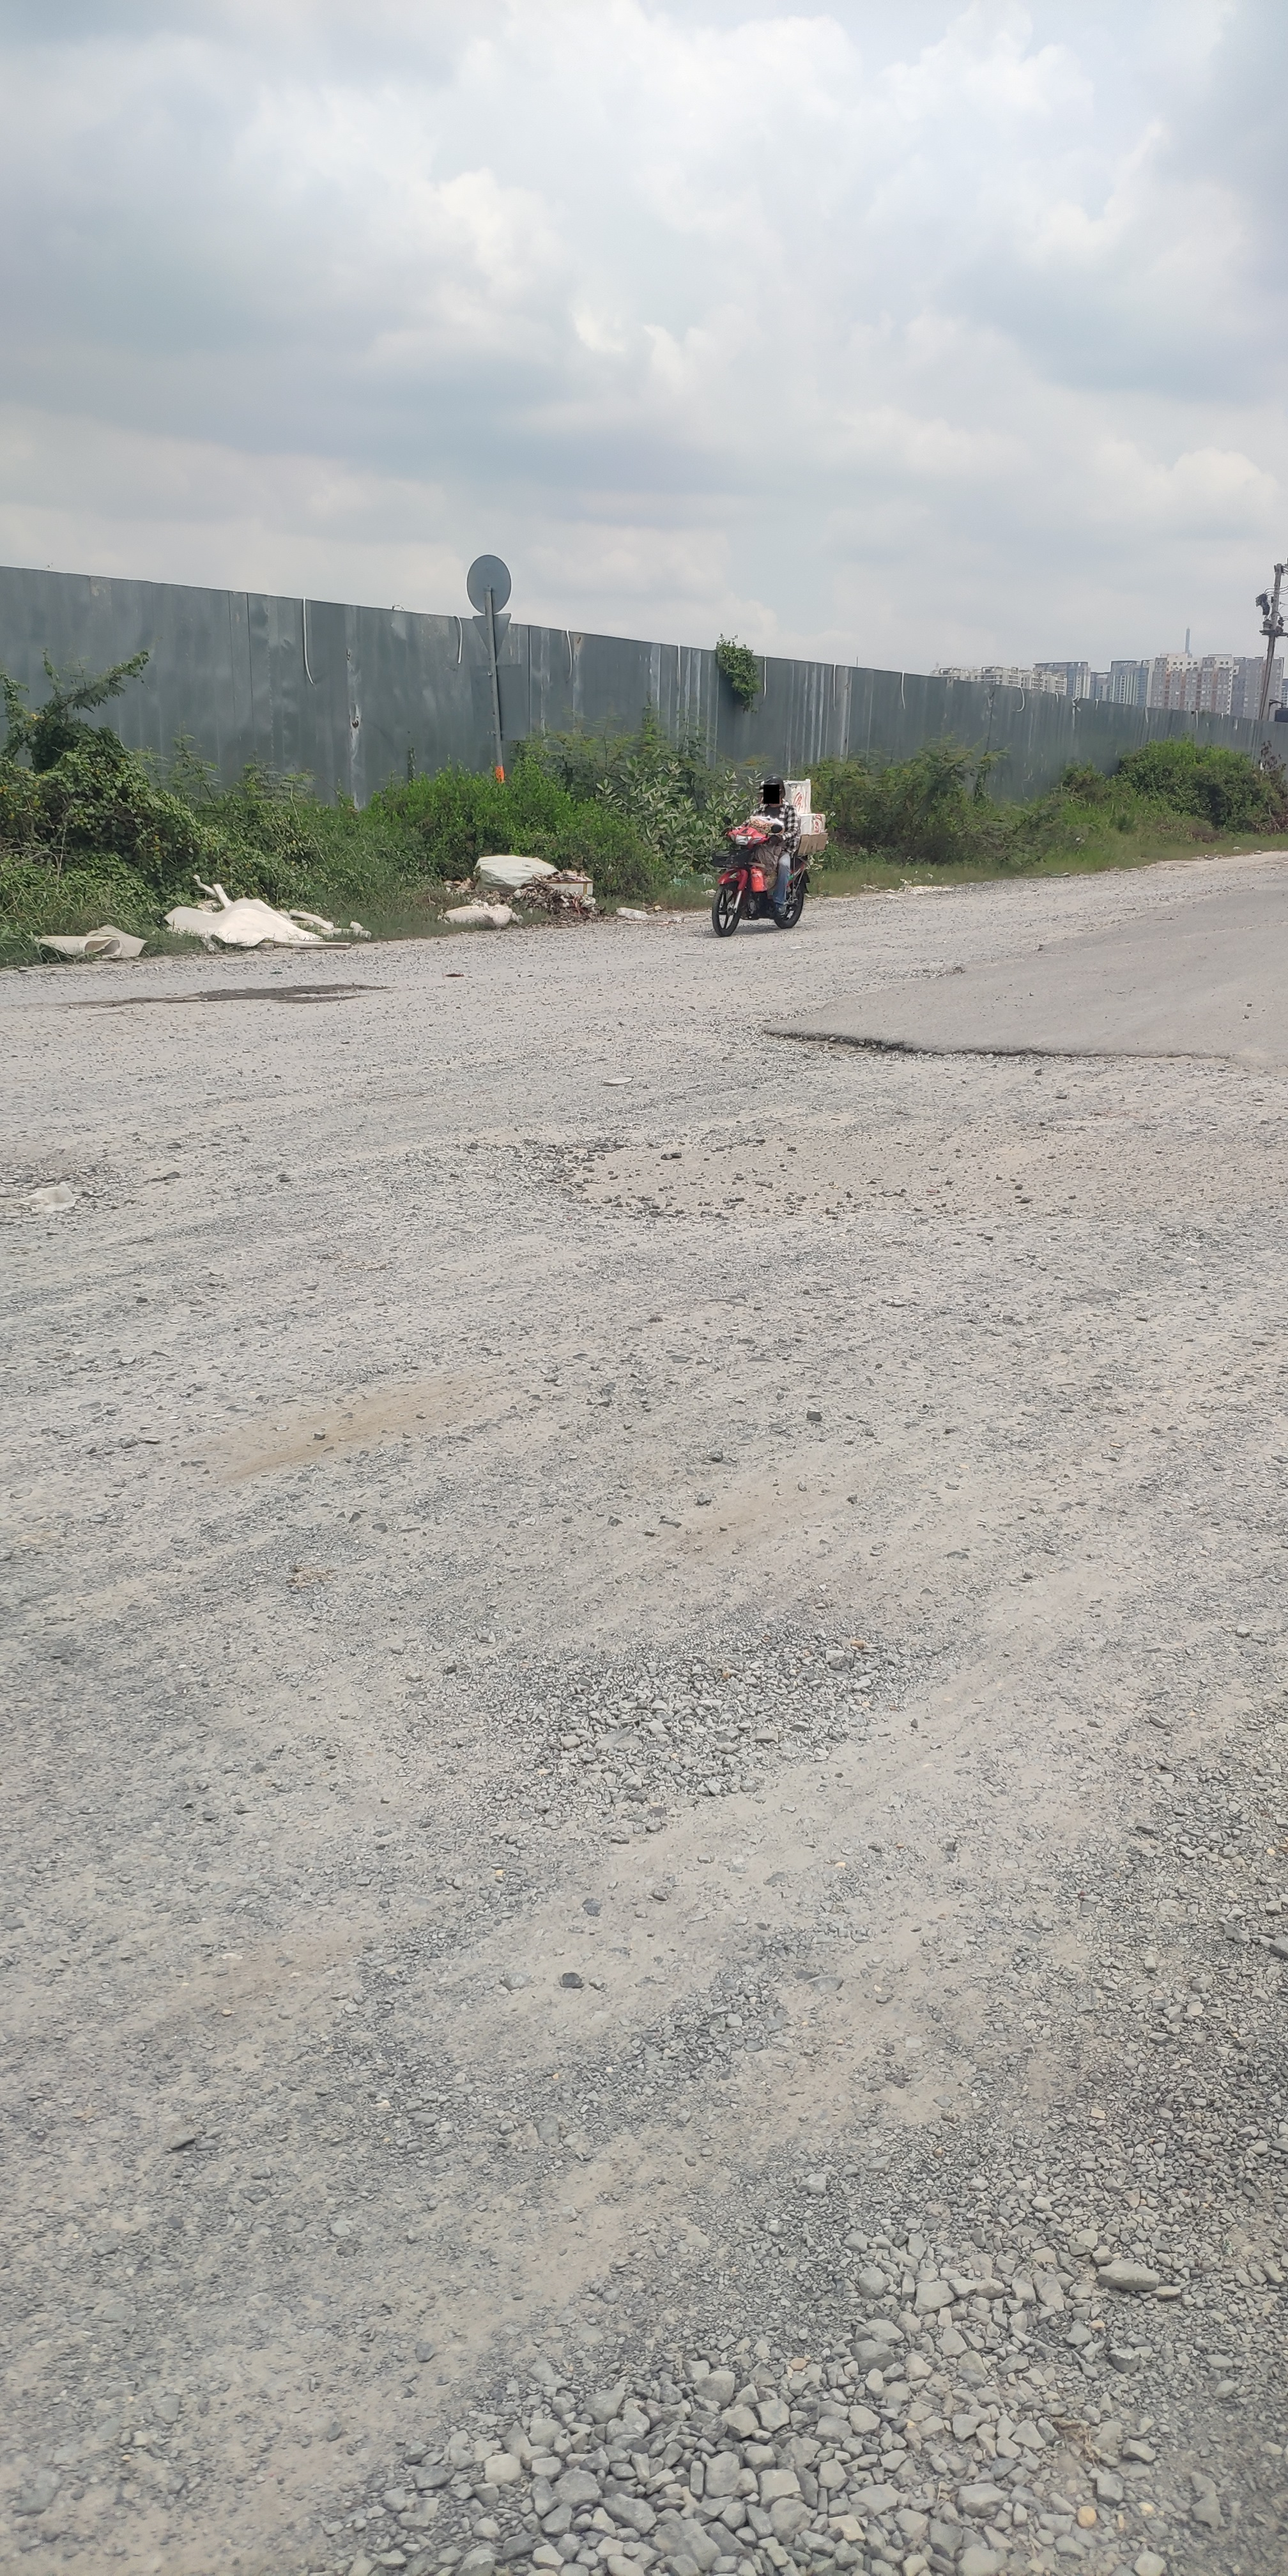hole: (284, 2029, 1288, 2576), (398, 1574, 999, 1837), (501, 1115, 910, 1234), (0, 1150, 145, 1232)
